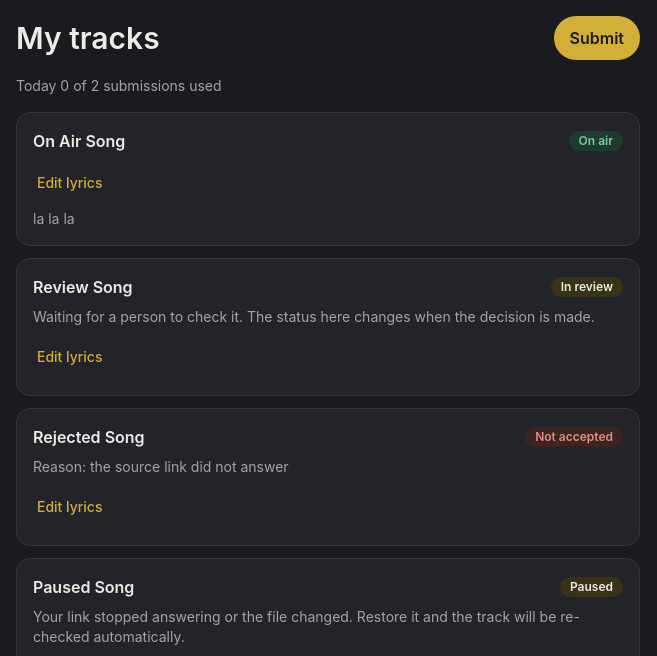
Test case: the cabinet (H-123 task 5) › Edit lyrics opens the inline editor pre-filled; saving PATCHes the text and reloads
Click the button "Edit lyrics" below "On Air Song": (70, 183) [33,161,106,205]
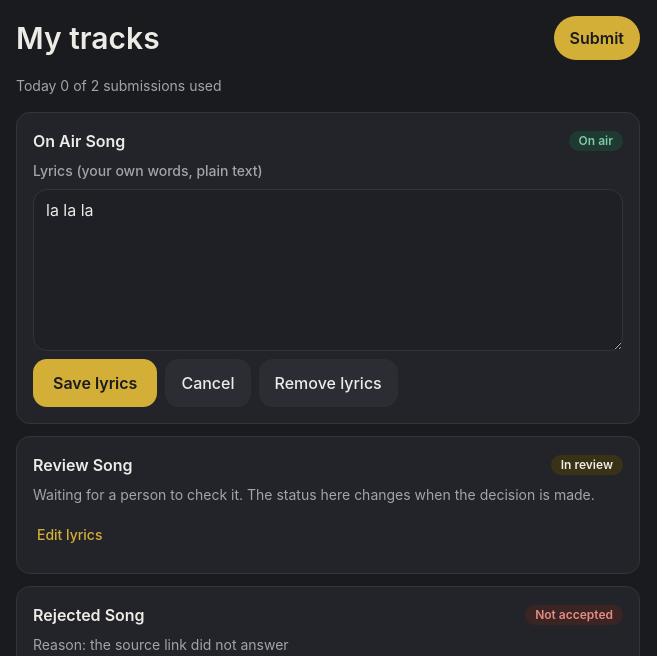
Now the text box labelled "Lyrics (your own words, plain text)" holds "la la la"
Now the text box "la la la" is shown
Replace the text in the text box "la la la" with "new words": (328, 270) [33,189,623,351]
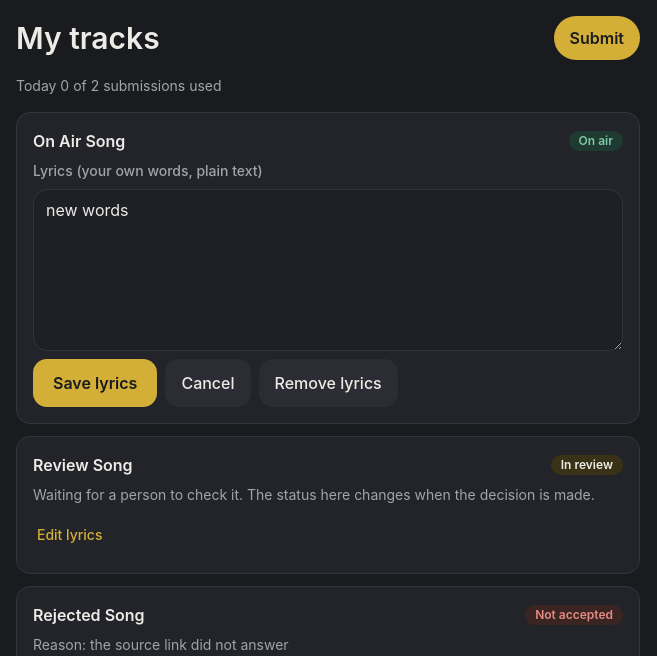
Click the button "Save lyrics": (95, 383) [33,359,157,407]
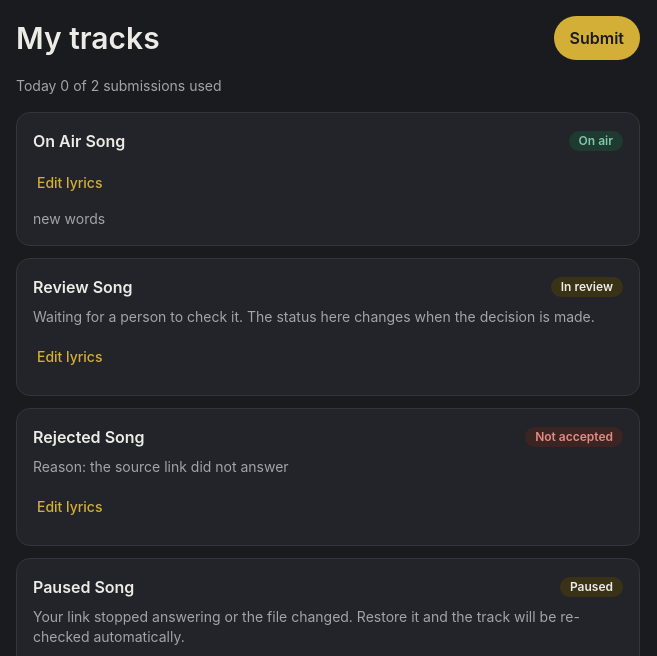
Now the label labelled "Lyrics (your own words, plain text)" is gone
